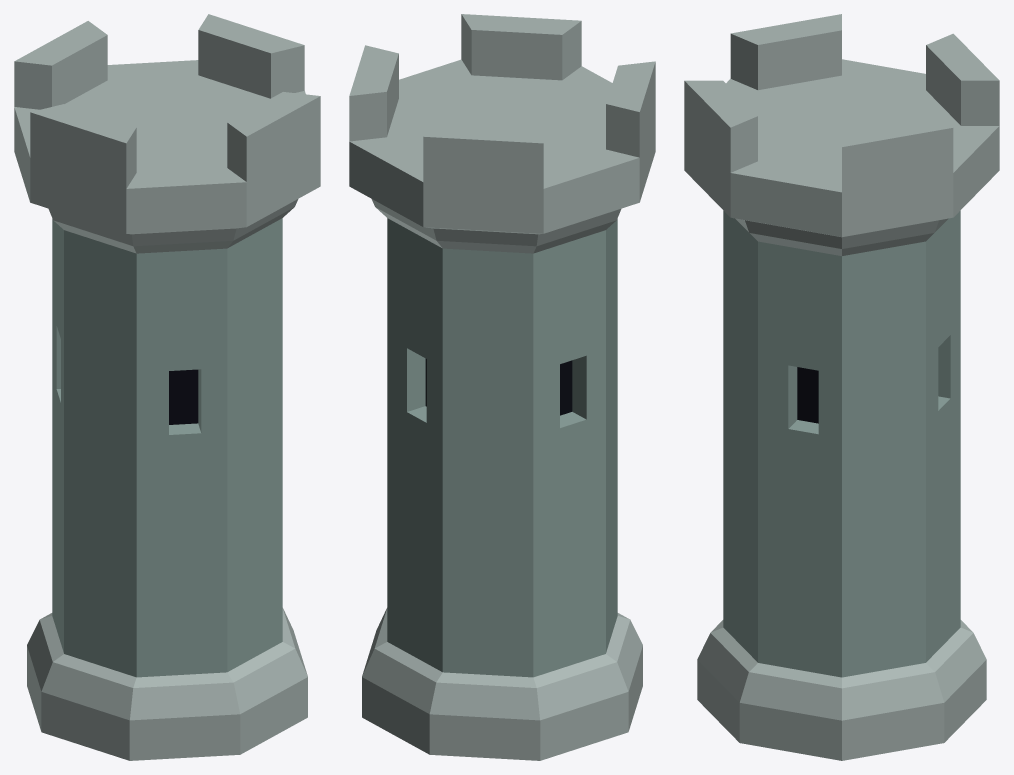
The model's file is Tower 1.fbx.
3 views of the same model, side by side, from view 1: azimuth 30°, elevation 25°; view 2: azimuth 150°, elevation 25°; view 3: azimuth 270°, elevation 25° (orthographic).
Visible parts, largest first — view 1: Cylinder; view 2: Cylinder; view 3: Cylinder.
Part boxes in pixels (<box>): Cylinder: <box>14,14,320,760</box>; Cylinder: <box>349,14,655,760</box>; Cylinder: <box>684,14,999,760</box>.
Bounding box in the file's own units: 218 × 472 × 218.
